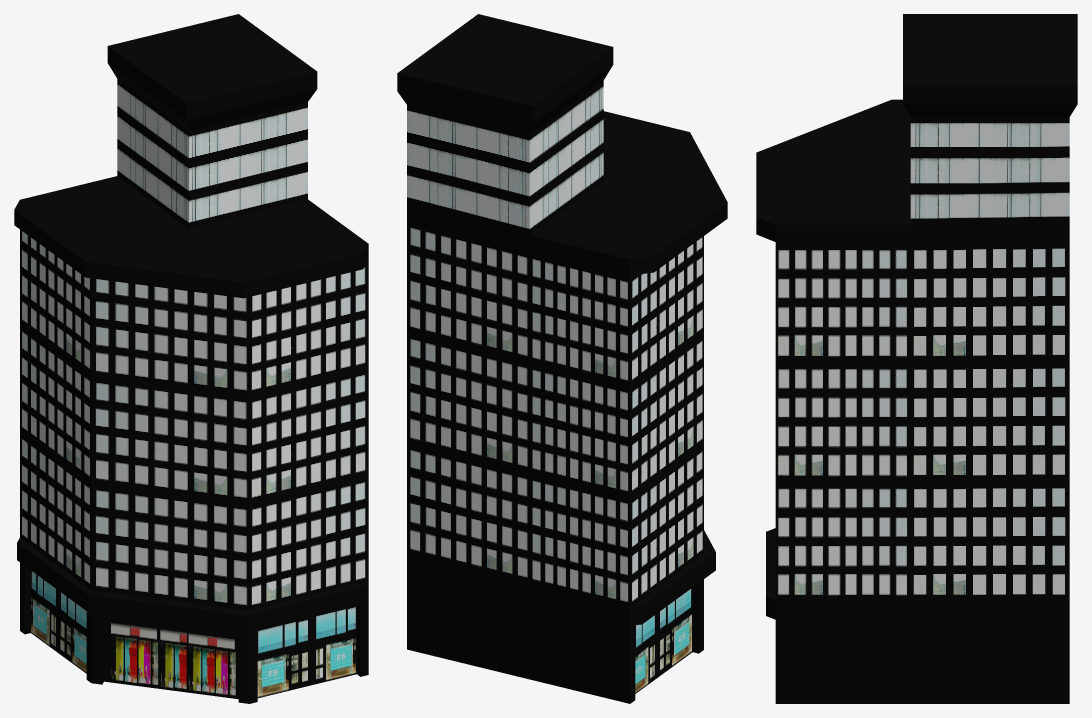
Rendered from building27.FBX.
The picture shows the model from 3 angles, left to right: view 1: azimuth 30°, elevation 25°; view 2: azimuth 150°, elevation 25°; view 3: azimuth 270°, elevation 25°; orthographic projection. The views are drawn at different scales.
Parts seen in each view (by area): view 1: Box001; view 2: Box001; view 3: Box001.
Boxes of the visible parts, x1,y1,x2,y2 form: Box001: (14,14,368,703); Box001: (397,14,727,703); Box001: (756,14,1077,703).
Size of the model in its own units: 205 by 462 by 217.
